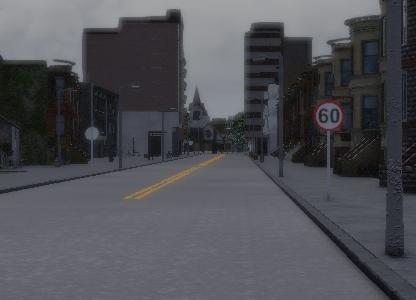Speed_60: (313, 99, 344, 132)
